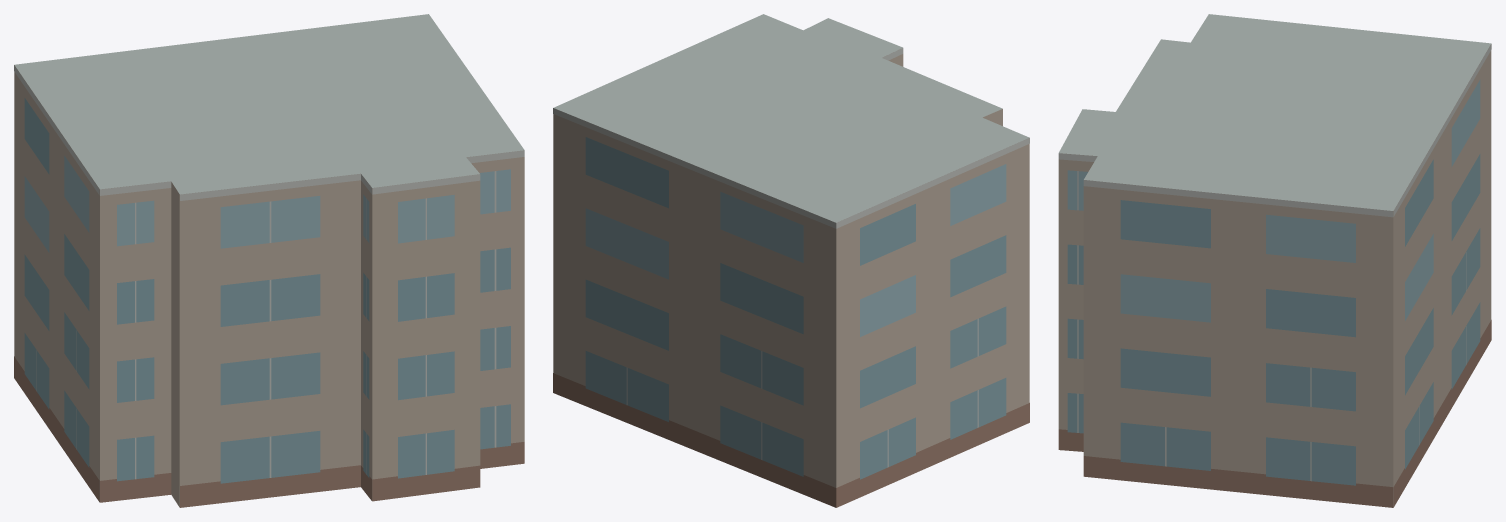
The model's file is survey-upis-33001198.glb.
3 renders of one model, left to right at view 1: azimuth 30°, elevation 25°; view 2: azimuth 150°, elevation 25°; view 3: azimuth 270°, elevation 25°, orthographic. The views are drawn at different scales.
Parts seen in each view (by area): view 1: survey-upis-33001198.tmp; view 2: survey-upis-33001198.tmp; view 3: survey-upis-33001198.tmp.
Boxes of the visible parts, box(x1,y1,x2,y2) form: survey-upis-33001198.tmp: box(14, 14, 524, 507); survey-upis-33001198.tmp: box(553, 14, 1029, 507); survey-upis-33001198.tmp: box(1058, 14, 1491, 507).
Bounding box in the file's own units: 16.53 × 11.6 × 15.35.
